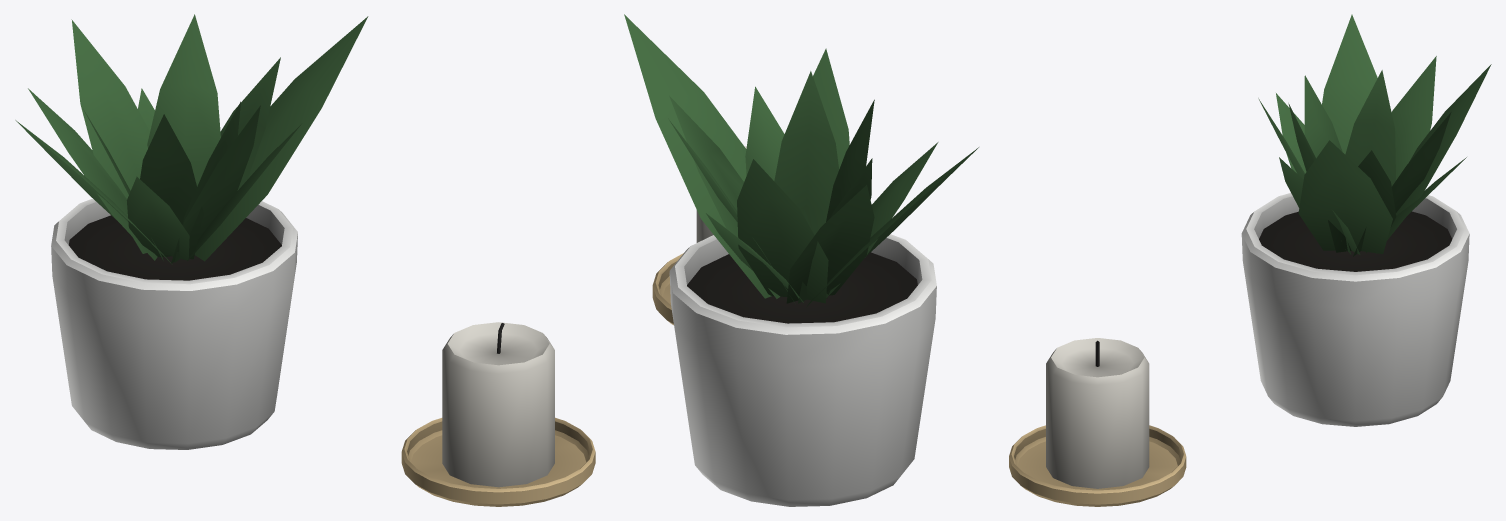
File: decor_d_vanity_plant.gltf
3 renders of one model, left to right at view 1: azimuth 30°, elevation 25°; view 2: azimuth 150°, elevation 25°; view 3: azimuth 270°, elevation 25°, orthographic. The views are drawn at different scales.
Parts seen in each view (by area): view 1: DecorD_VanityPlant_Ceramic_NoCollide, DecorD_VanityPlant_BathLeaf_NoCollide, DecorD_VanityPlant_Candle01_Paper_NoCollide, DecorD_VanityPlant_Brass_NoCollide, DecorD_VanityPlant_BathSoil_NoCollide; view 2: DecorD_VanityPlant_Ceramic_NoCollide, DecorD_VanityPlant_BathLeaf_NoCollide, DecorD_VanityPlant_BathSoil_NoCollide, DecorD_VanityPlant_Brass_NoCollide; view 3: DecorD_VanityPlant_Ceramic_NoCollide, DecorD_VanityPlant_BathLeaf_NoCollide, DecorD_VanityPlant_Candle01_Paper_NoCollide, DecorD_VanityPlant_Brass_NoCollide, DecorD_VanityPlant_BathSoil_NoCollide.
Part boxes in pixels (box(x1,y1,x2,y2)): DecorD_VanityPlant_Ceramic_NoCollide: box(51, 198, 297, 449); DecorD_VanityPlant_BathLeaf_NoCollide: box(15, 14, 368, 264); DecorD_VanityPlant_Candle01_Paper_NoCollide: box(442, 322, 554, 487); DecorD_VanityPlant_Brass_NoCollide: box(401, 417, 595, 506); DecorD_VanityPlant_BathSoil_NoCollide: box(68, 215, 281, 280); DecorD_VanityPlant_Ceramic_NoCollide: box(669, 234, 936, 506); DecorD_VanityPlant_BathLeaf_NoCollide: box(624, 14, 978, 307); DecorD_VanityPlant_BathSoil_NoCollide: box(687, 252, 917, 323); DecorD_VanityPlant_Brass_NoCollide: box(652, 253, 683, 325); DecorD_VanityPlant_Ceramic_NoCollide: box(1241, 193, 1469, 426); DecorD_VanityPlant_BathLeaf_NoCollide: box(1258, 14, 1491, 256); DecorD_VanityPlant_Candle01_Paper_NoCollide: box(1046, 338, 1149, 488); DecorD_VanityPlant_Brass_NoCollide: box(1009, 425, 1186, 506); DecorD_VanityPlant_BathSoil_NoCollide: box(1259, 211, 1452, 271).
Size of the model in its own units: 0.2813 by 0.2259 by 0.2996.
